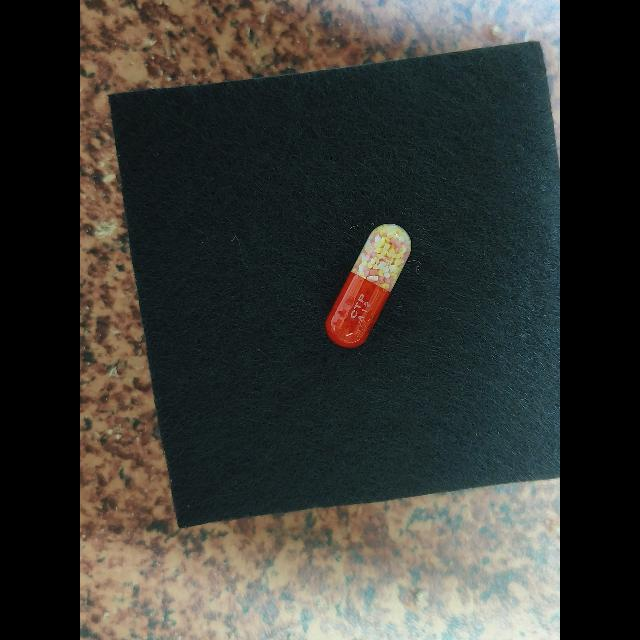Intact Capsule: (325, 224, 411, 348)
